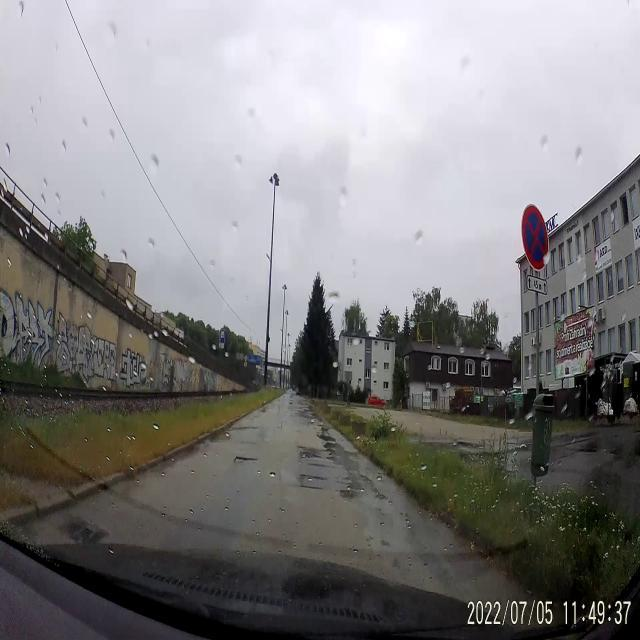Manhole: (60, 512, 98, 546)
Pothole: (339, 470, 386, 518), (297, 469, 334, 497), (232, 448, 262, 476)
